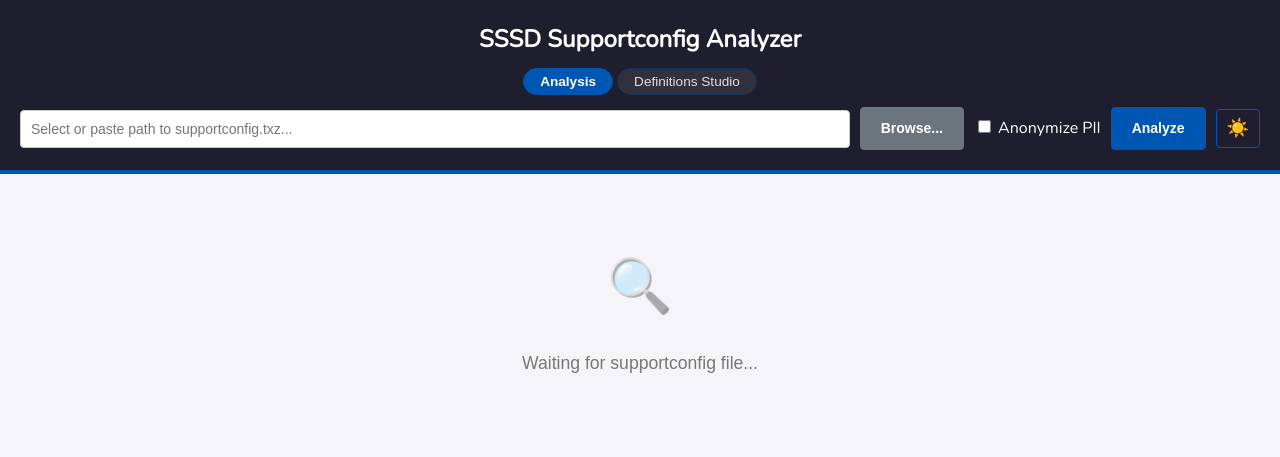
Test: App — analysis flow › refuses to analyze without a path
The image size is (1280, 457).
Click the button "Analyze": (1158, 129) left=1111, top=107, right=1206, bottom=150
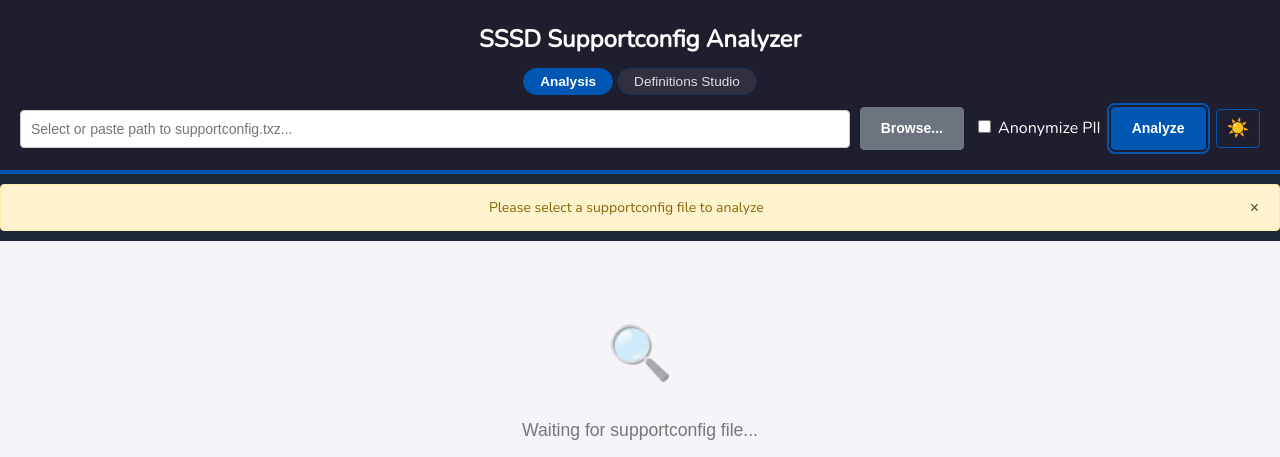
Now the message with test id "status-message" shows "Please select a supportconfig file", box left=489, top=198, right=764, bottom=217
